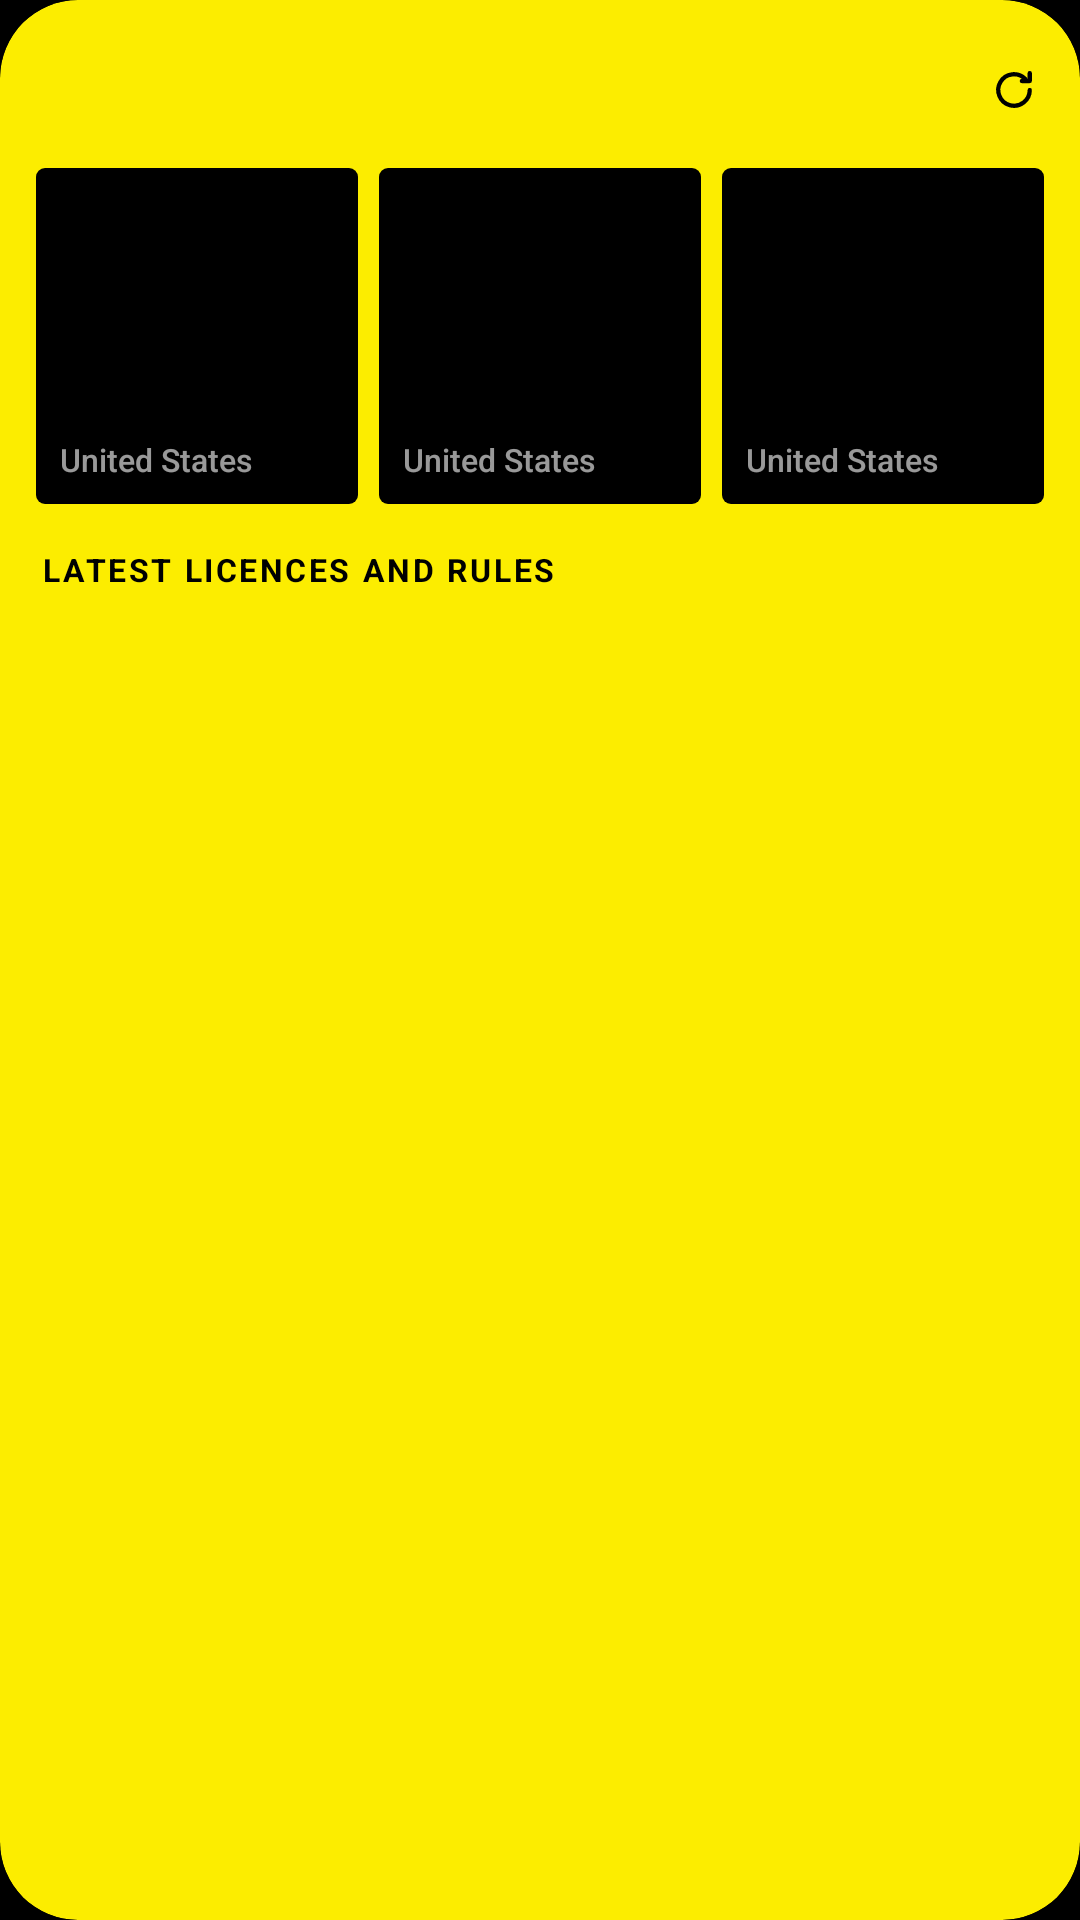

Icon click points for this 1080x1920 phone screenshot, format (x=x, y=y):
Check for news now: (x=1014, y=89)
